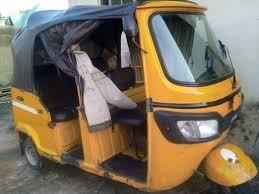keke: (10, 1, 259, 194)
